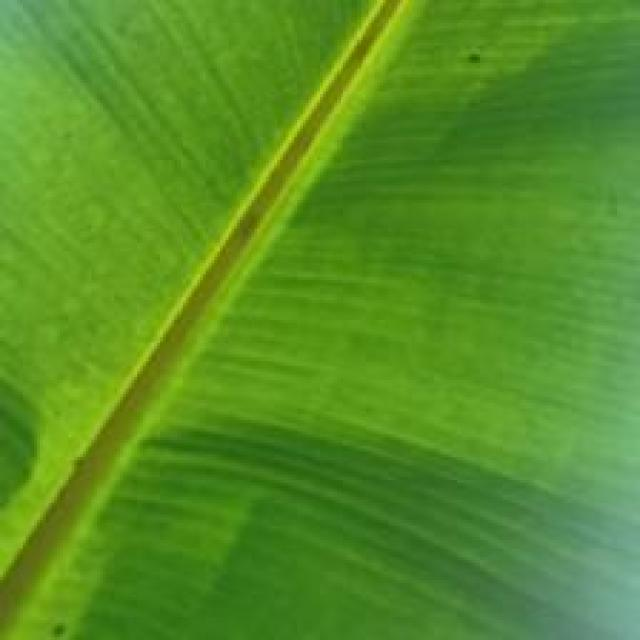Black_leaf_spot: (0, 0, 594, 614)
